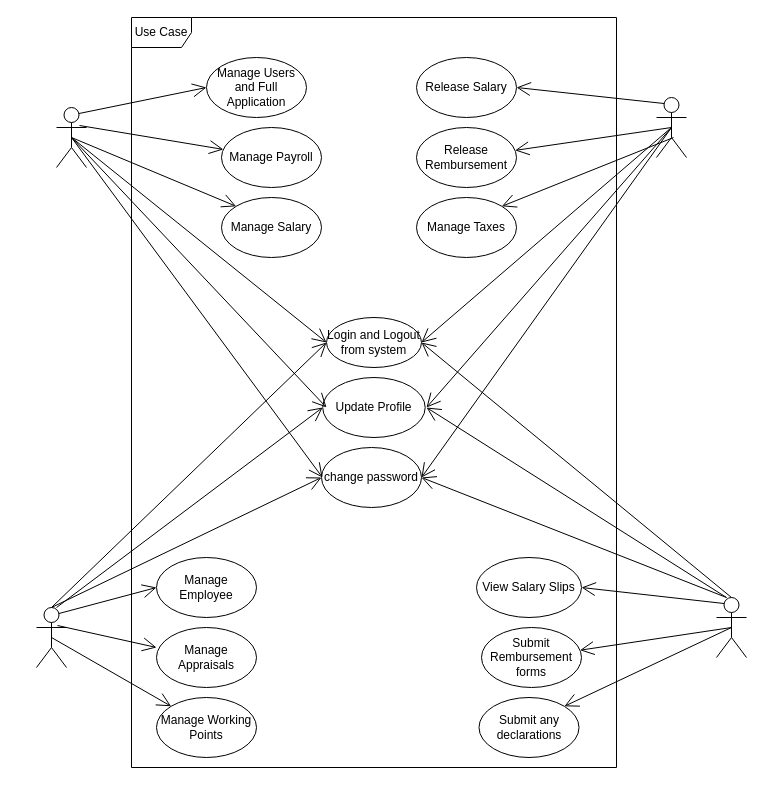
Some shapes in this 775 by 785 pixel diagram are drawn without their labels. The centre of each missing label's shape, as x and y in pixels:
Accountant: the point at 671,127
Admin: the point at 71,137
Employee: the point at 731,627
System User: the point at 51,637
